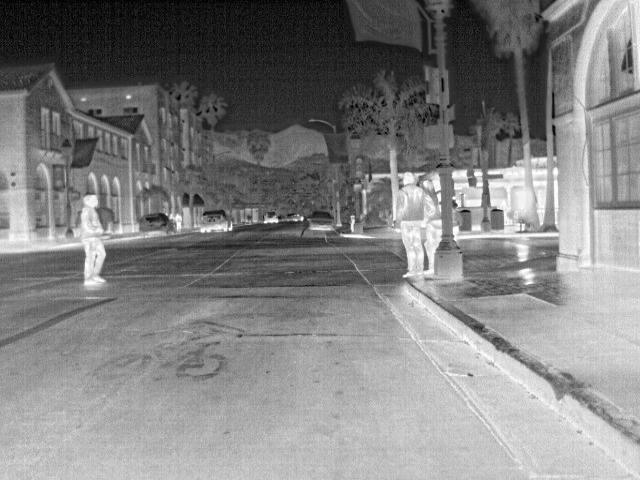car: (138, 212, 177, 239), (198, 207, 233, 234), (306, 209, 337, 234), (261, 211, 279, 225)
person: (392, 170, 438, 279), (79, 193, 111, 286), (419, 176, 442, 278)
